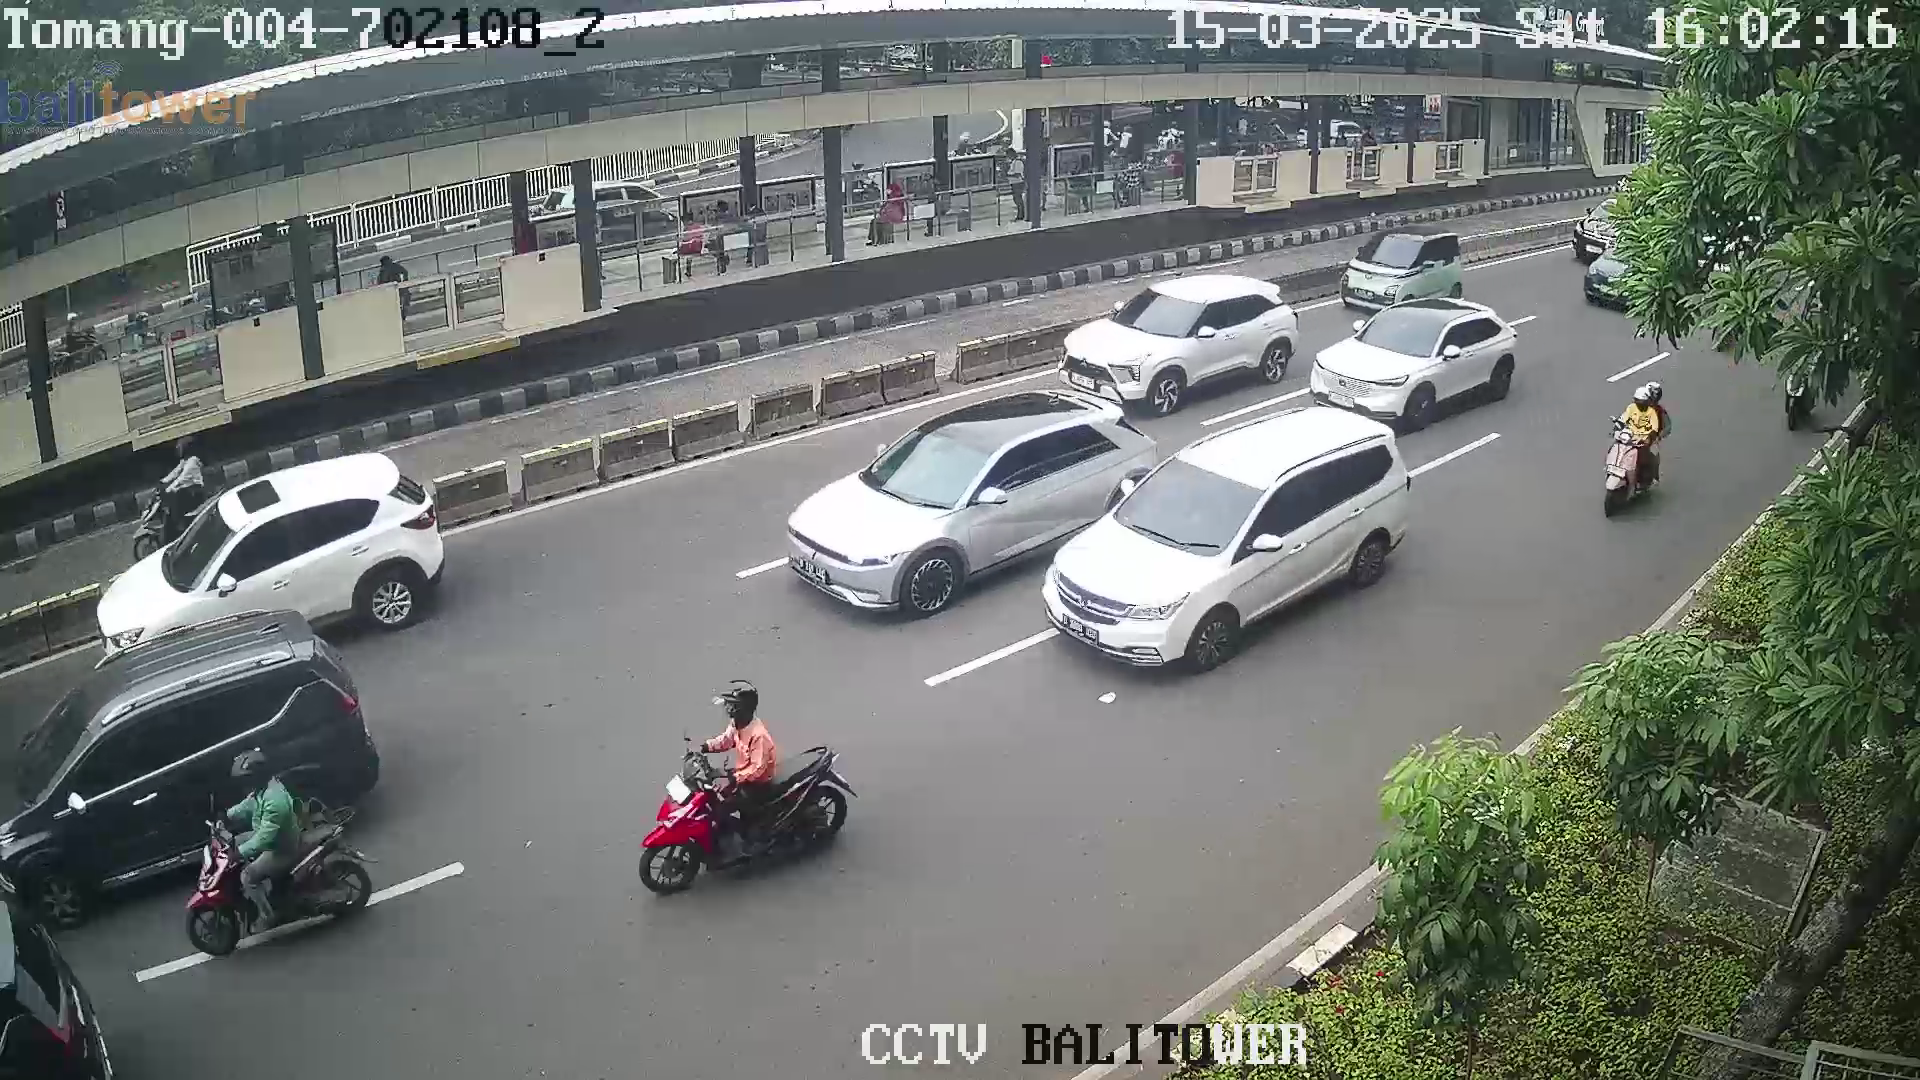half-face helmet: (712, 674, 770, 731), (227, 749, 278, 794), (1633, 384, 1655, 414)
